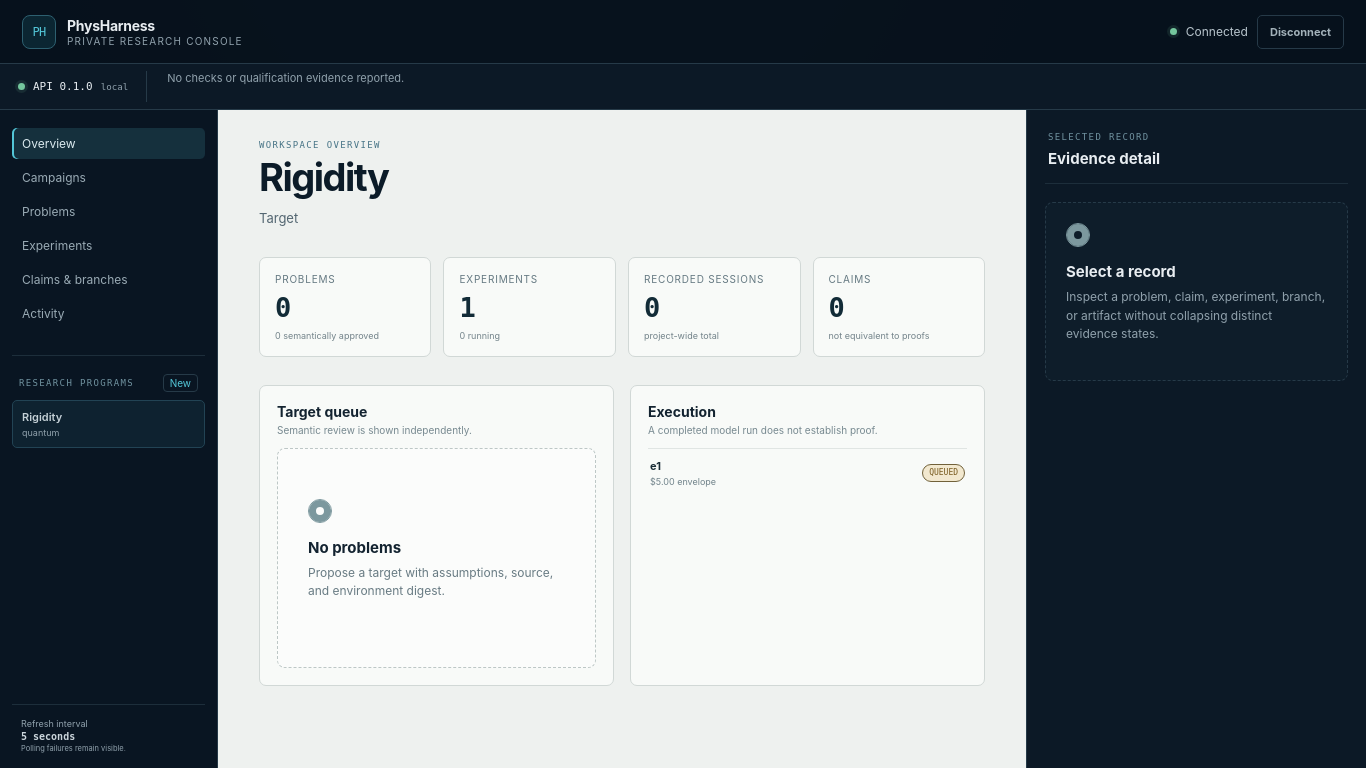
Test: allows cancellation of API queued experiment
This screenshot has width=1366, height=768.
Click the button with aria-label "open experiment rigidity" at (695, 481), box left=648, top=448, right=967, bottom=497
(page scrolled)
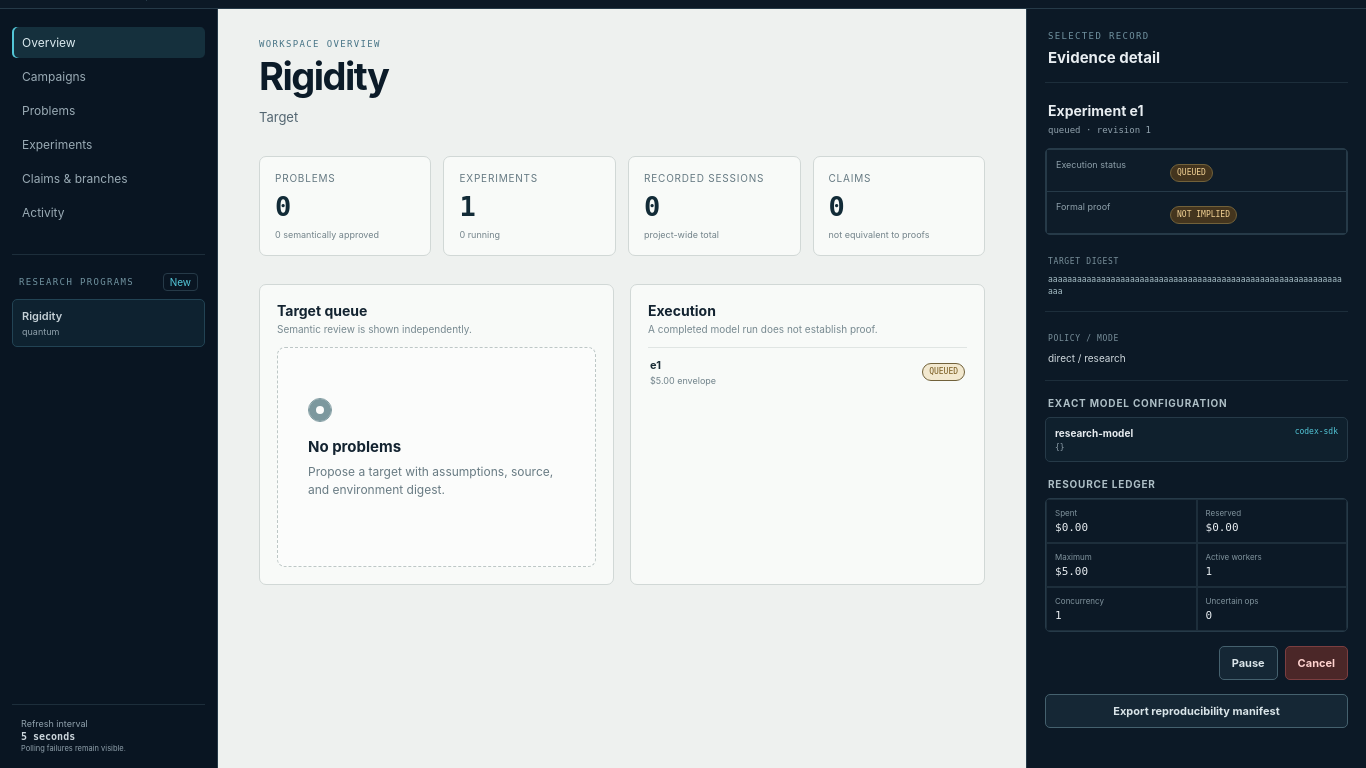
Expected: the button with aria-label "cancel experiment" is shown, left=1285, top=646, right=1348, bottom=680
